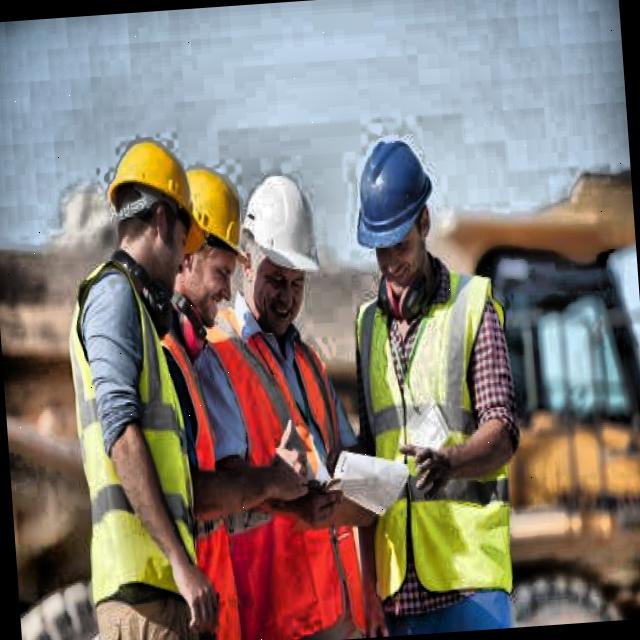helmet: (98, 125, 202, 298), (149, 148, 246, 315), (232, 168, 326, 340), (345, 126, 441, 294)
